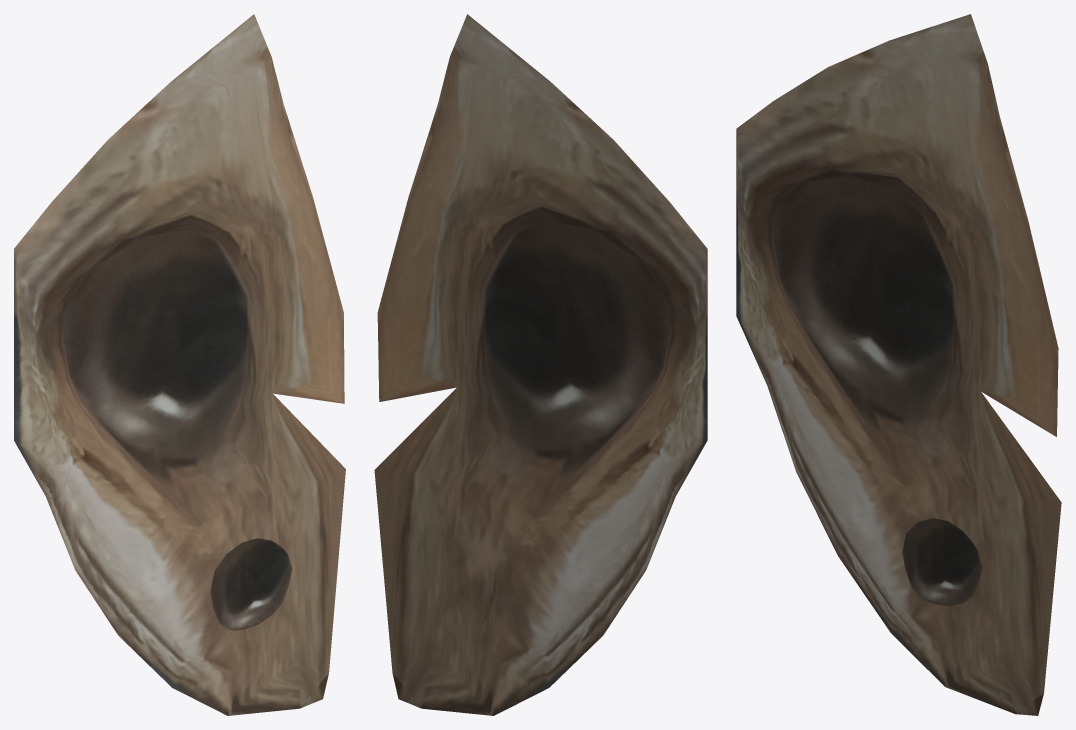
Rendered from Cabeca3.fbx.
The picture shows the model from 3 angles, left to right: view 1: azimuth 30°, elevation 25°; view 2: azimuth 150°, elevation 25°; view 3: azimuth 330°, elevation 25°; orthographic projection. The views are drawn at different scales.
Visible parts, largest first — view 1: Monster; view 2: Monster; view 3: Monster.
Boxes of the visible parts, x1,y1,x2,y2 form: Monster: [14, 14, 345, 715]; Monster: [374, 14, 707, 715]; Monster: [736, 14, 1061, 715].
Bounding box in the file's own units: 178 × 360 × 12.71.
